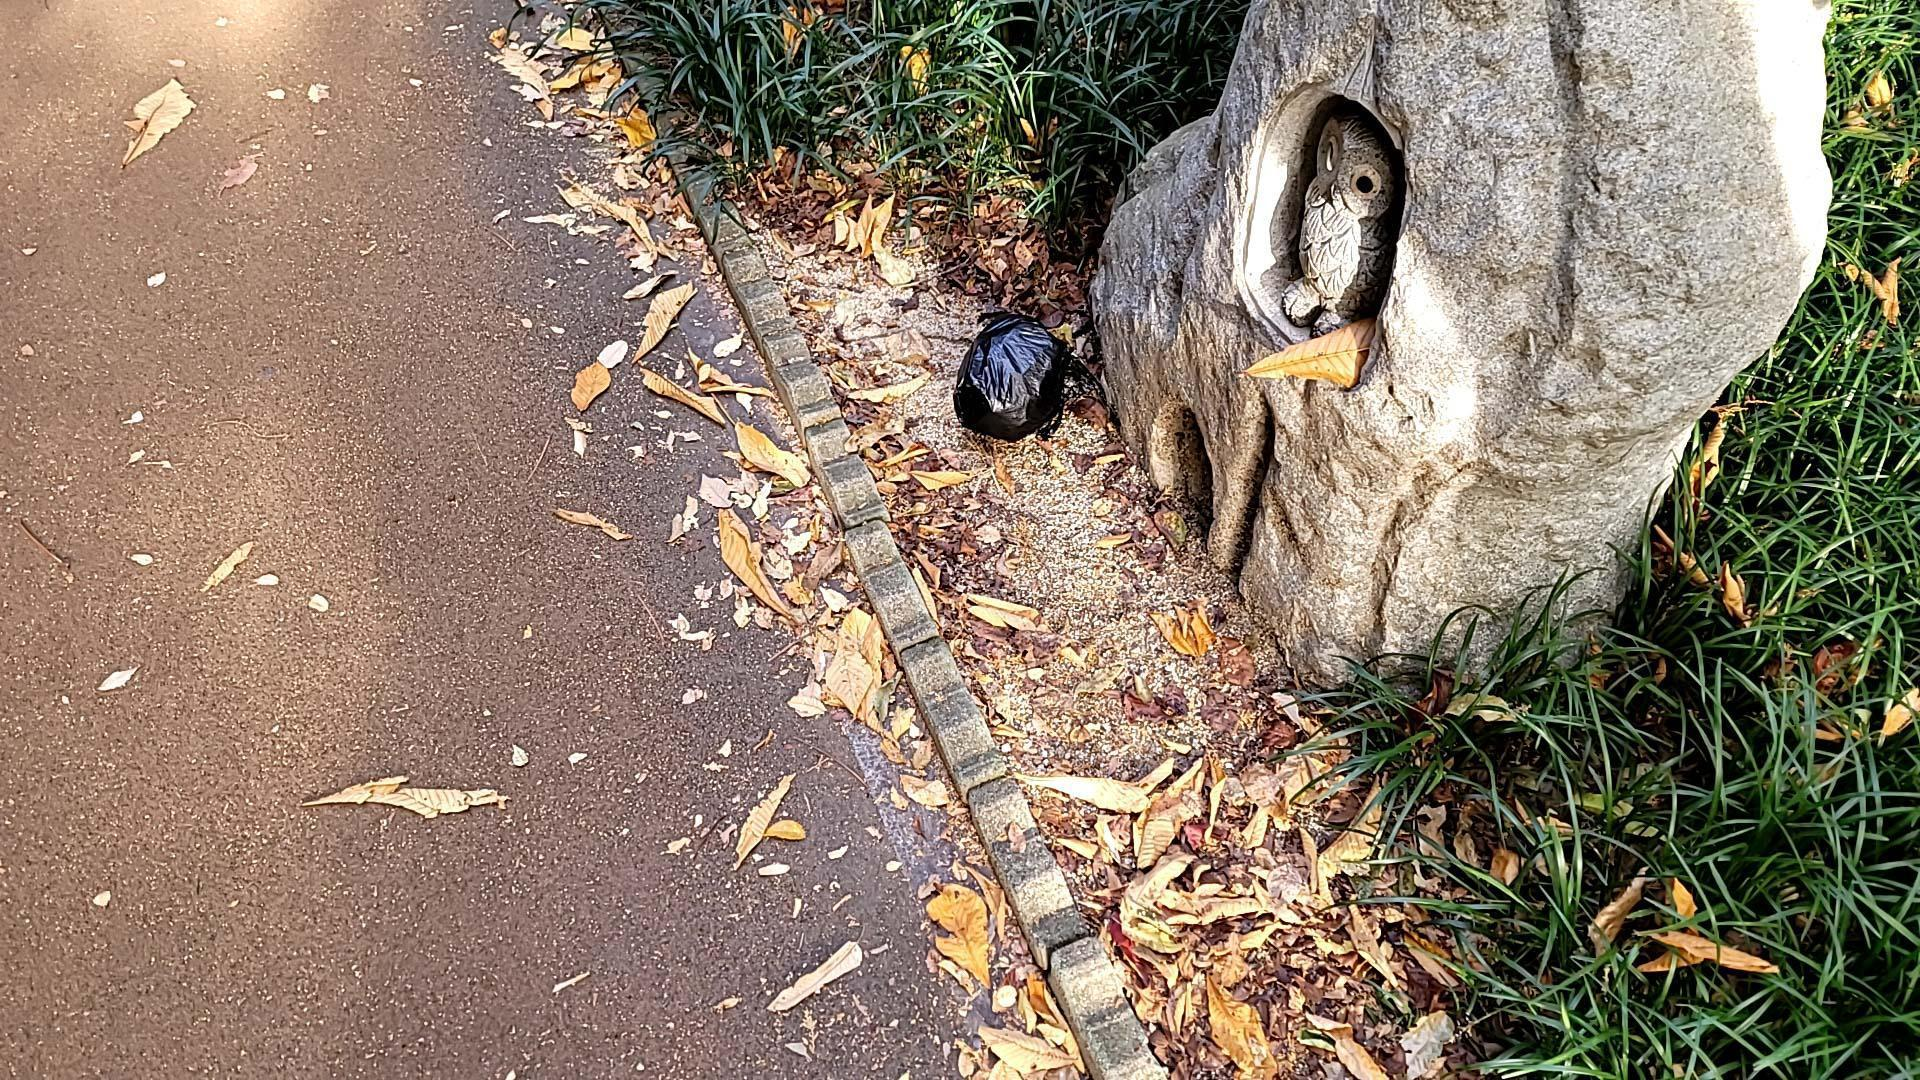black_bag: (945, 297, 1081, 448)
